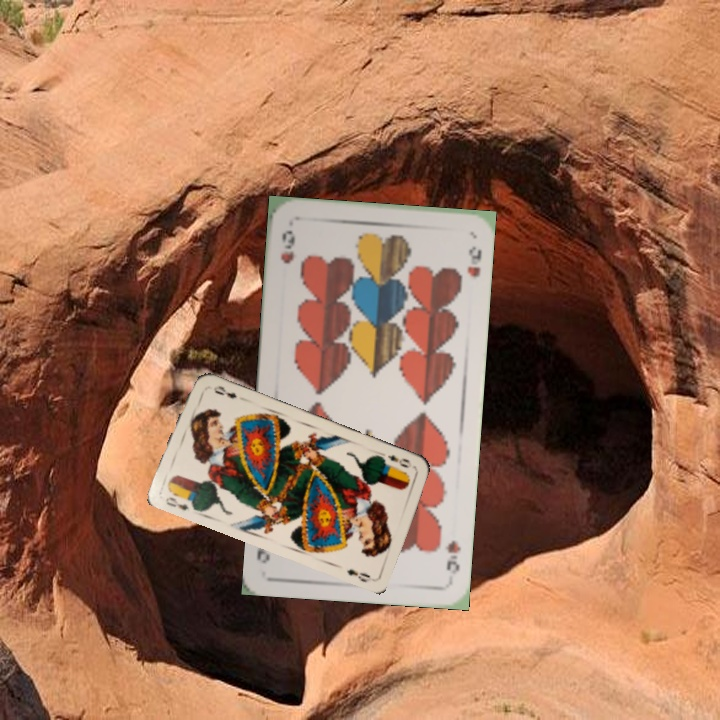EO: (161, 492, 191, 513), (383, 451, 412, 471)
H9: (276, 226, 298, 267), (441, 537, 464, 576)
